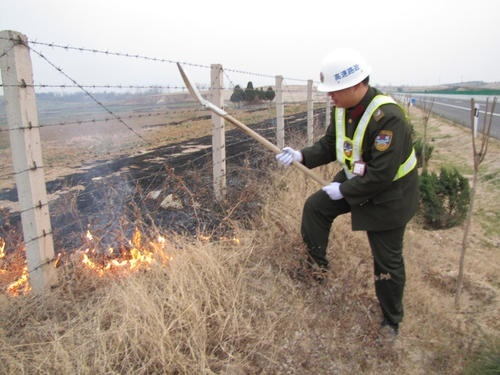fire: (78, 226, 171, 274), (0, 234, 30, 294), (195, 226, 242, 244)
